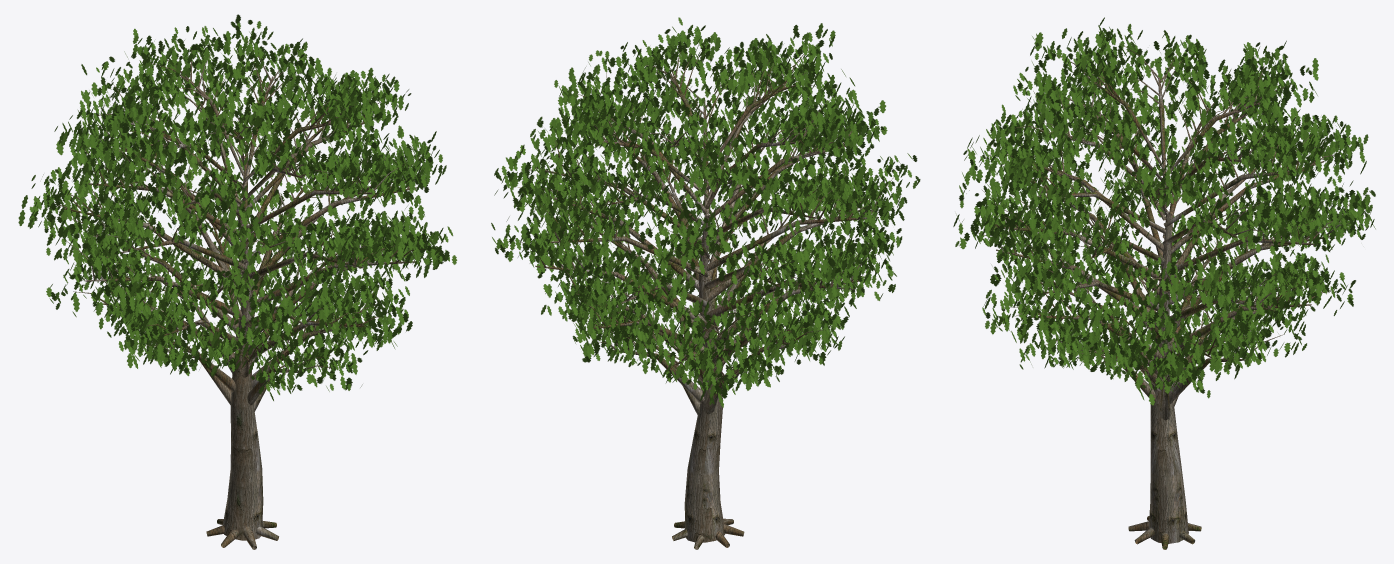
Rendered from tour-beech.glb.
3 views of the same model, side by side, from view 1: azimuth 30°, elevation 25°; view 2: azimuth 150°, elevation 25°; view 3: azimuth 270°, elevation 25° (orthographic).
Parts seen in each view (by area): view 1: white-oak; view 2: white-oak; view 3: white-oak.
Boxes of the visible parts, bbox=[...] form: white-oak: bbox=[18, 14, 457, 549]; white-oak: bbox=[491, 17, 920, 549]; white-oak: bbox=[953, 17, 1375, 549].
Bounding box in the file's own units: 12.91 × 16.12 × 13.02.
2 materials, 2 textured.
